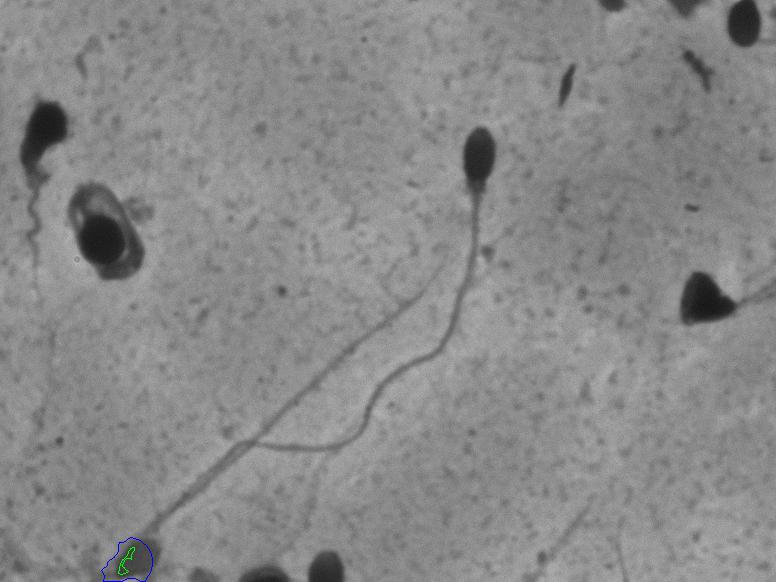Normal: (123, 112, 502, 531)
